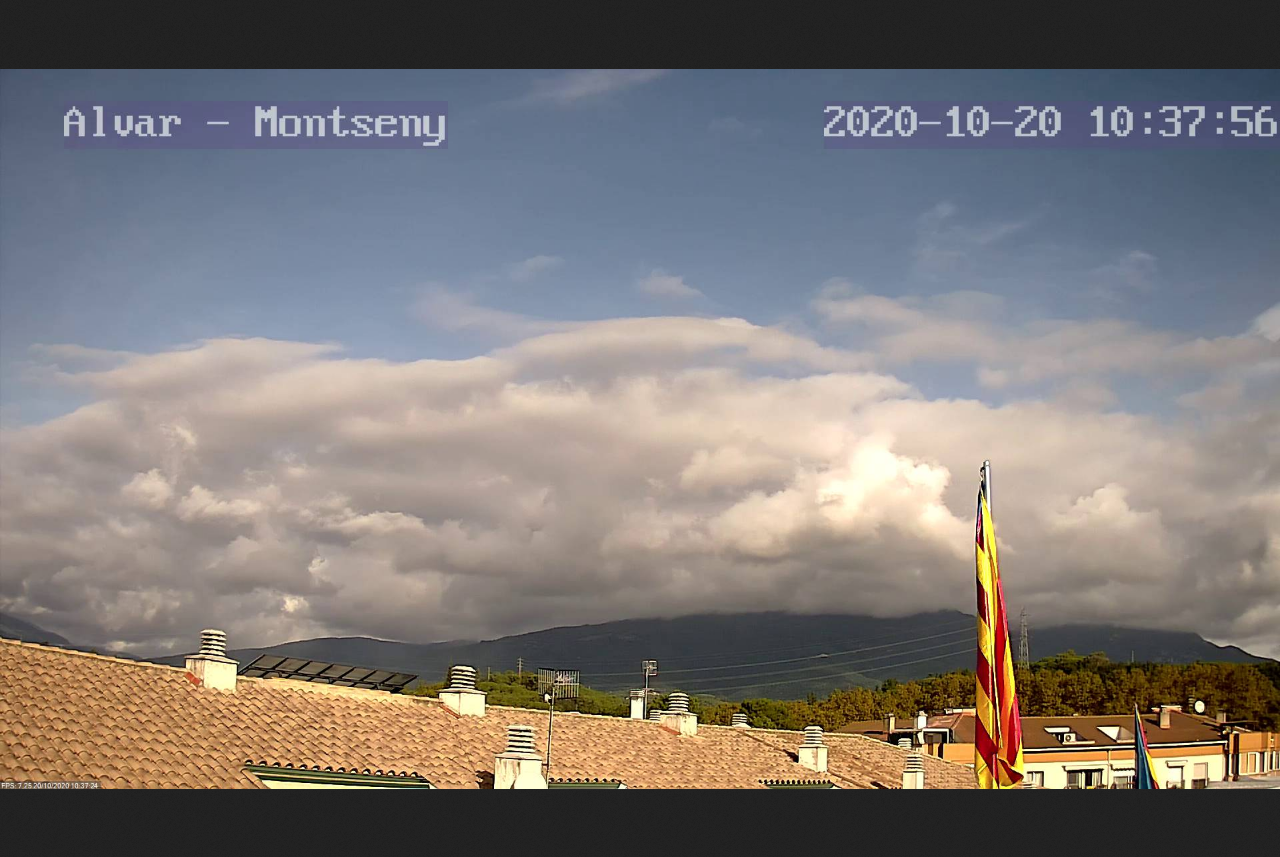no: (975, 481, 1031, 792)
